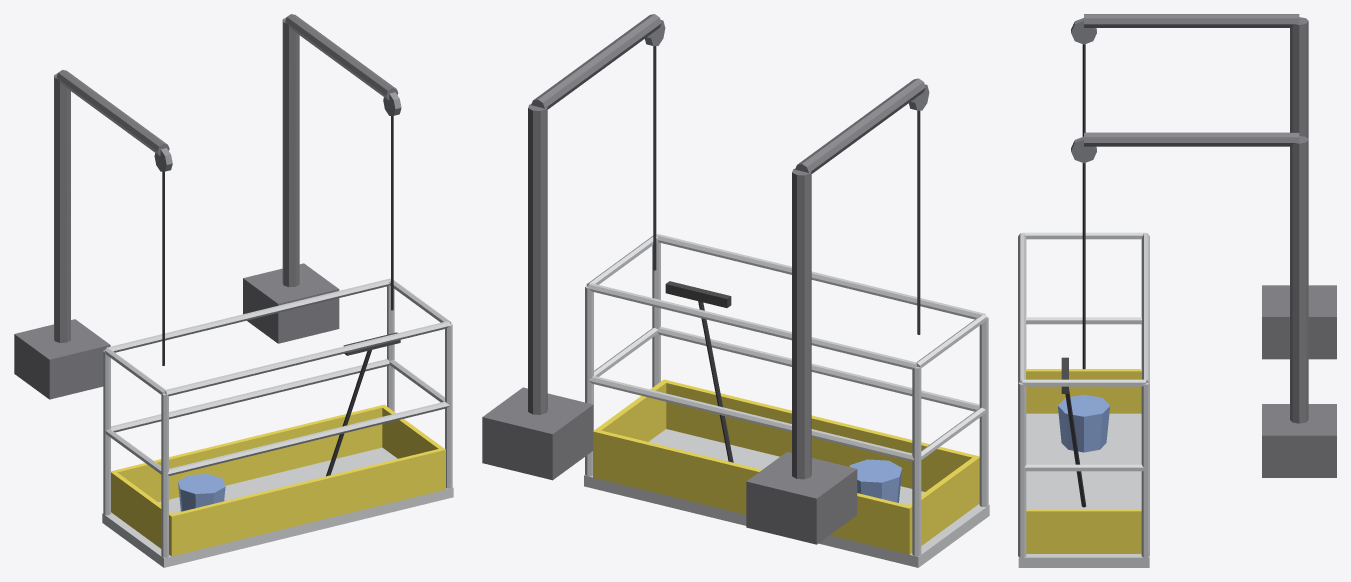
The model's file is HJ_Gondola.fbx.
3 views of the same model, side by side, from view 1: azimuth 30°, elevation 25°; view 2: azimuth 150°, elevation 25°; view 3: azimuth 270°, elevation 25° (orthographic). The views are drawn at different scales.
Parts seen in each view (by area): view 1: HJ_Gondola; view 2: HJ_Gondola; view 3: HJ_Gondola.
Boxes of the visible parts, x1,y1,x2,y2 form: HJ_Gondola: [14, 14, 453, 567]; HJ_Gondola: [482, 14, 989, 567]; HJ_Gondola: [1018, 14, 1336, 567].
Bounding box in the file's own units: 1.9 × 2.47 × 1.7.
